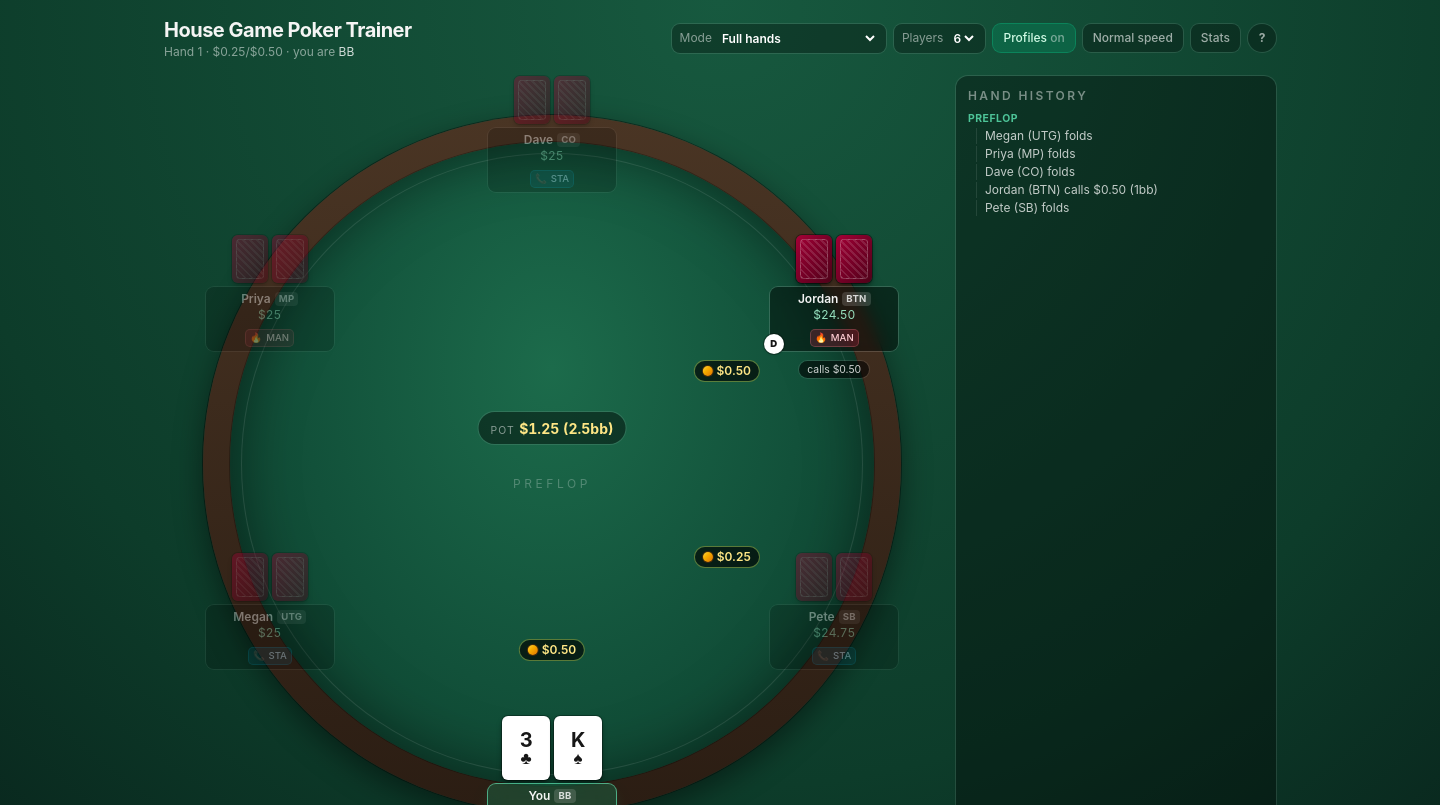
Test: practice modes and stats › runs the preflop drill as one decision per hand
Expected: the text "Pot" is shown, [490, 424, 515, 437]
Select "Preflop drill" in the dropdown named "Practice mode" at (798,38), box [718, 30, 878, 46]
(page scrolled)
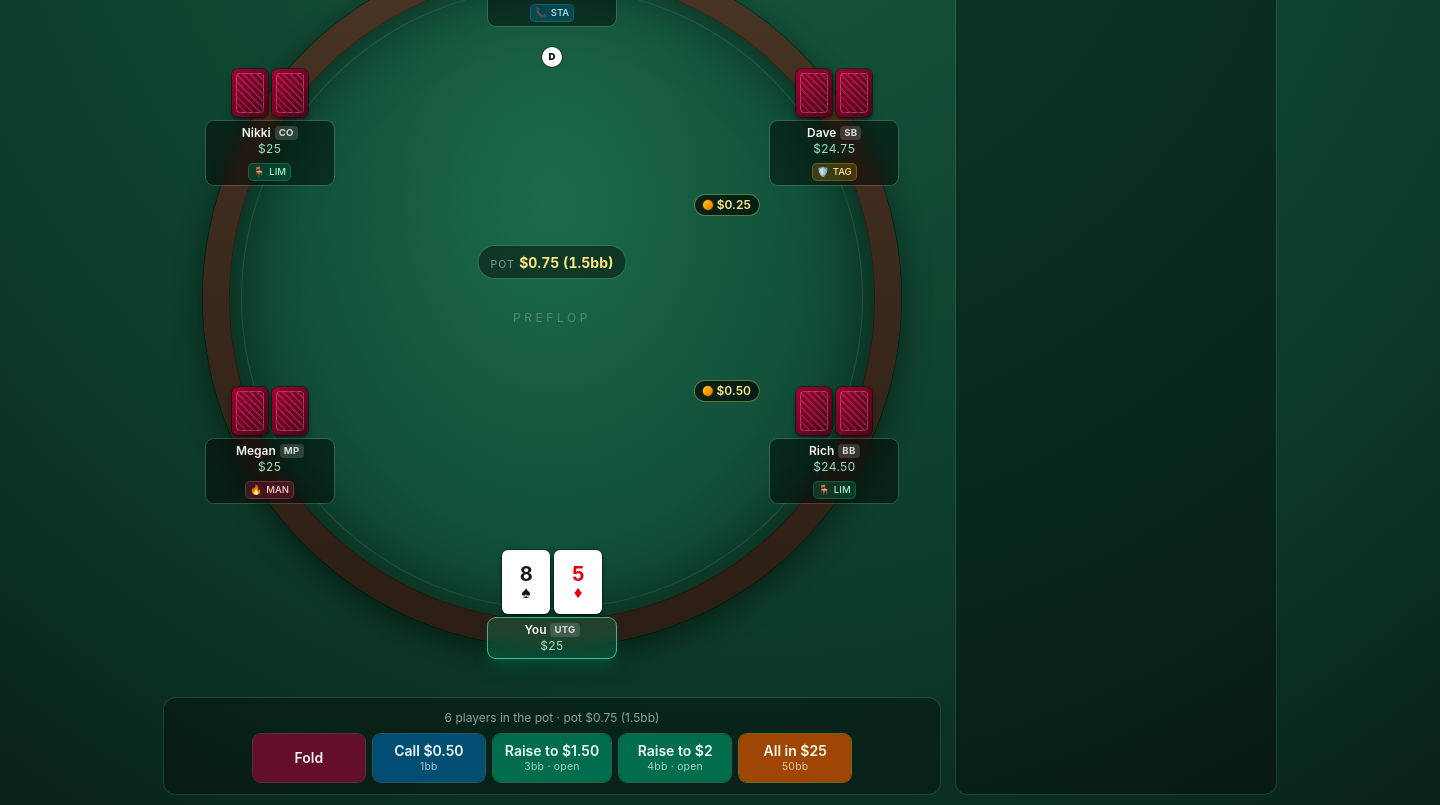
Click the button "Fold" at (309,758), box [253, 734, 365, 782]
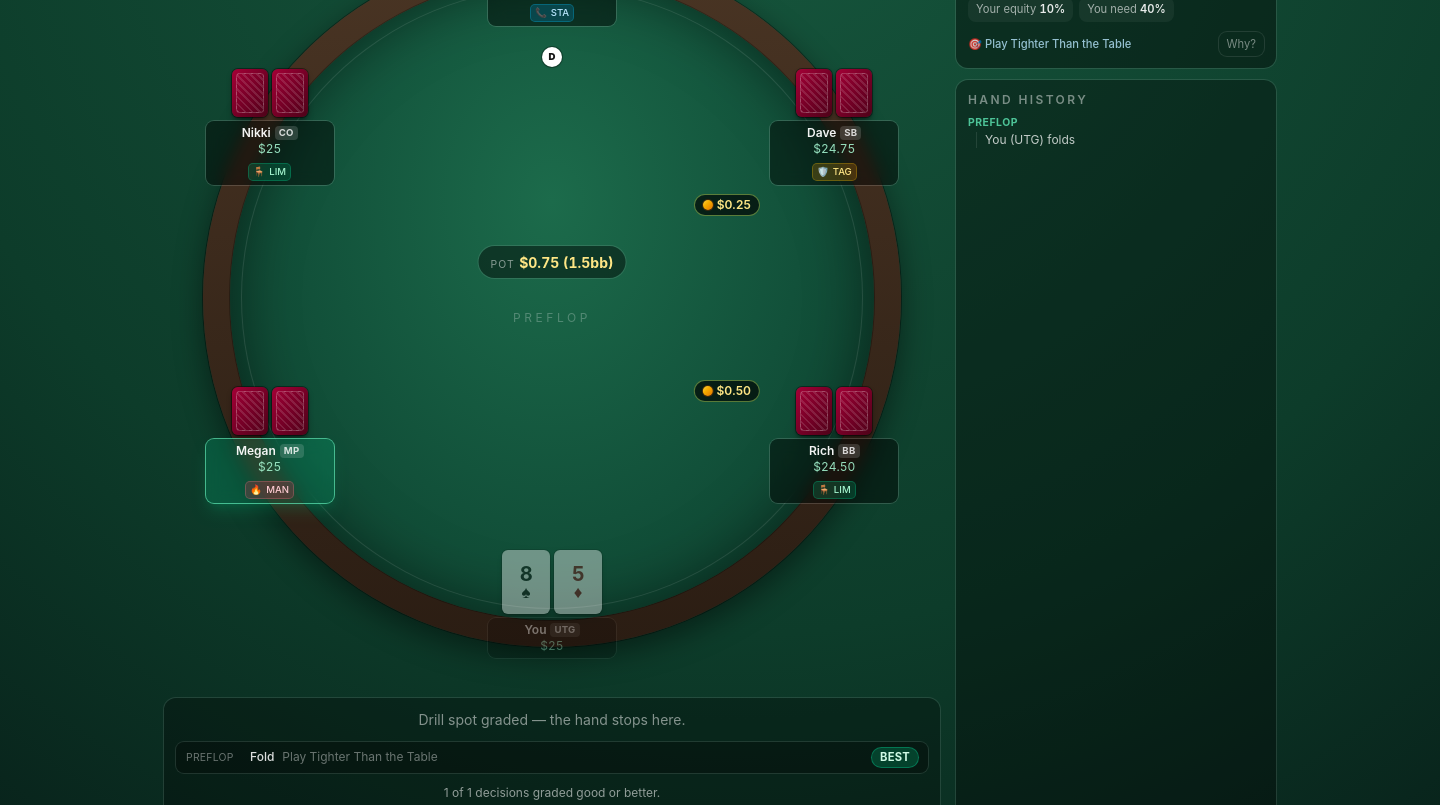
Expected: the text "Drill spot graded — the hand stops here." is shown, [418, 711, 686, 728]
